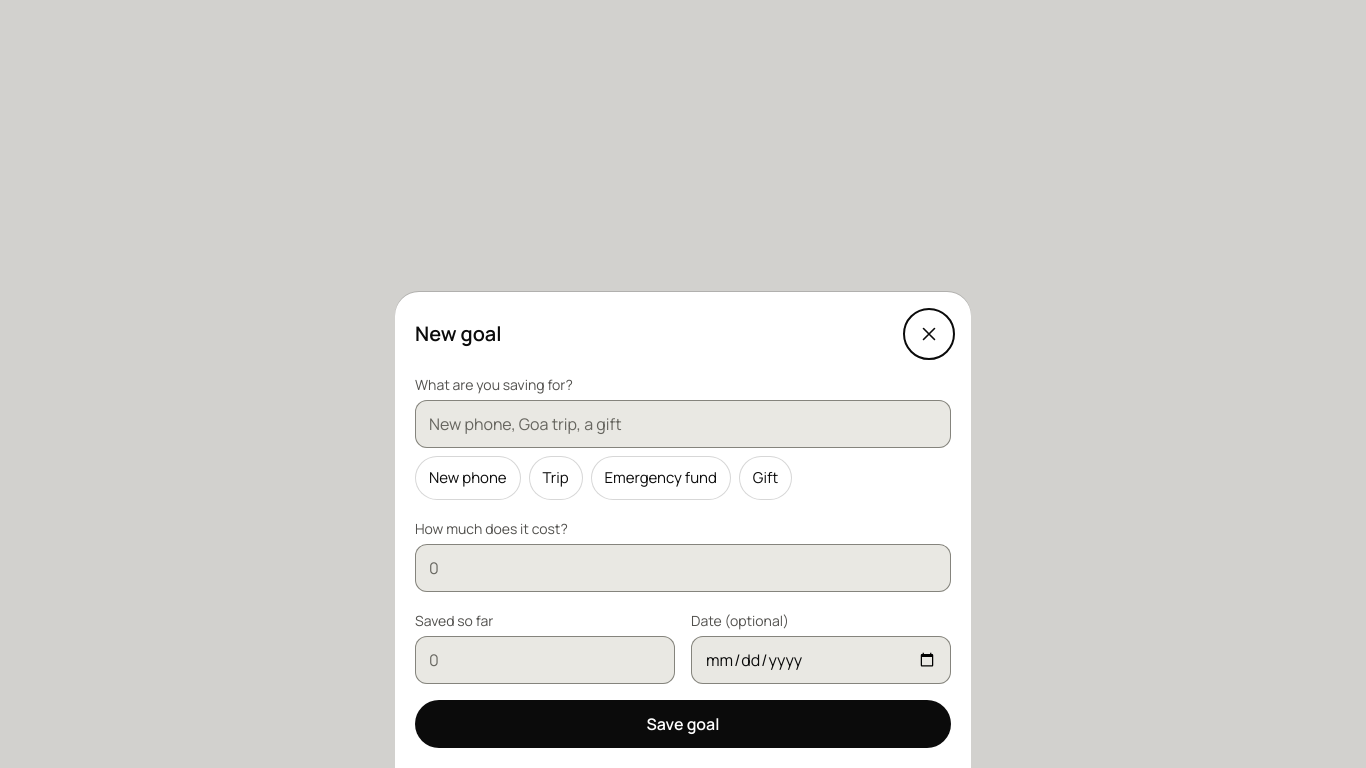
Test: GoalSheet: making a goal › clears the error once the field is corrected
This screenshot has width=1366, height=768.
Click the button "Save goal". click: x=683, y=724
box: [415,700,951,748]
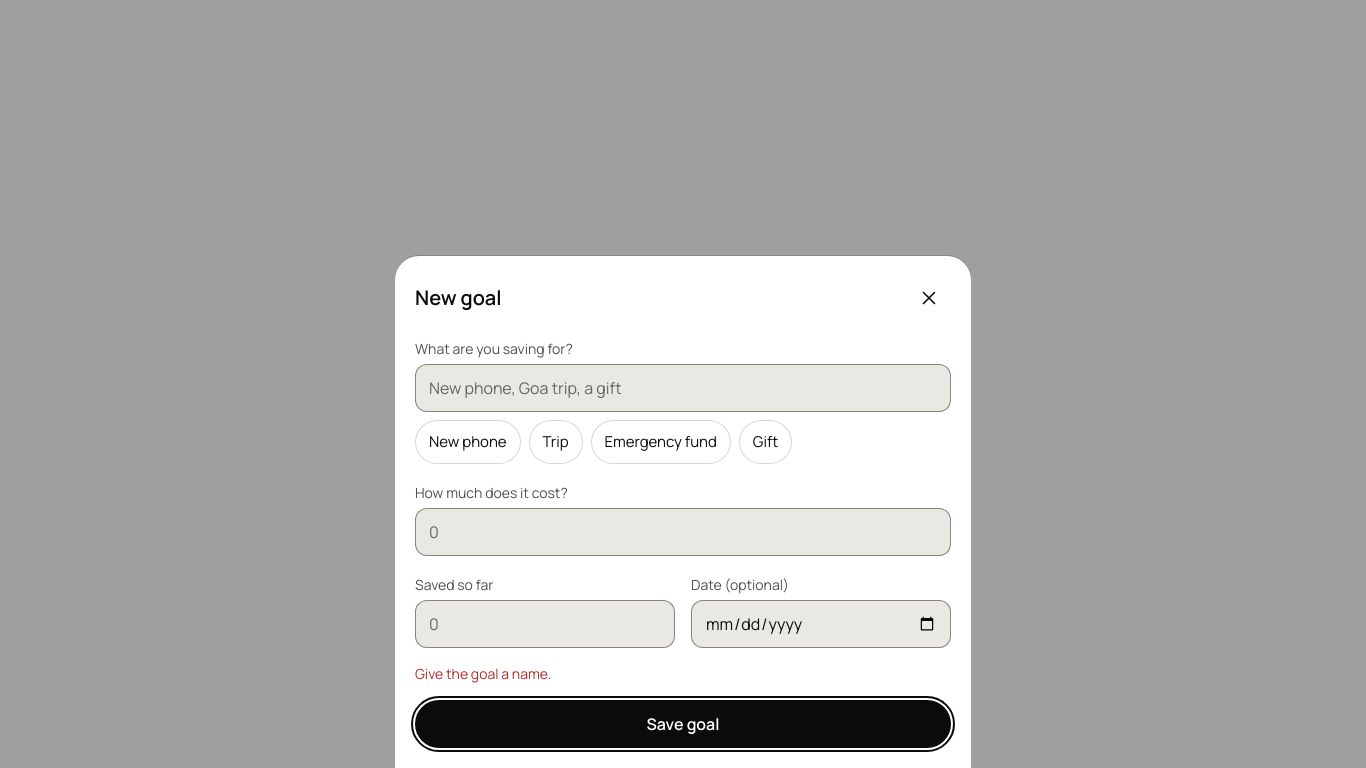
Now the message "Give the goal a name." is shown, box [415,664,551,683]
Type "T" into the field labelled "What are you saving for?". click: x=683, y=388
box: [415,364,951,412]
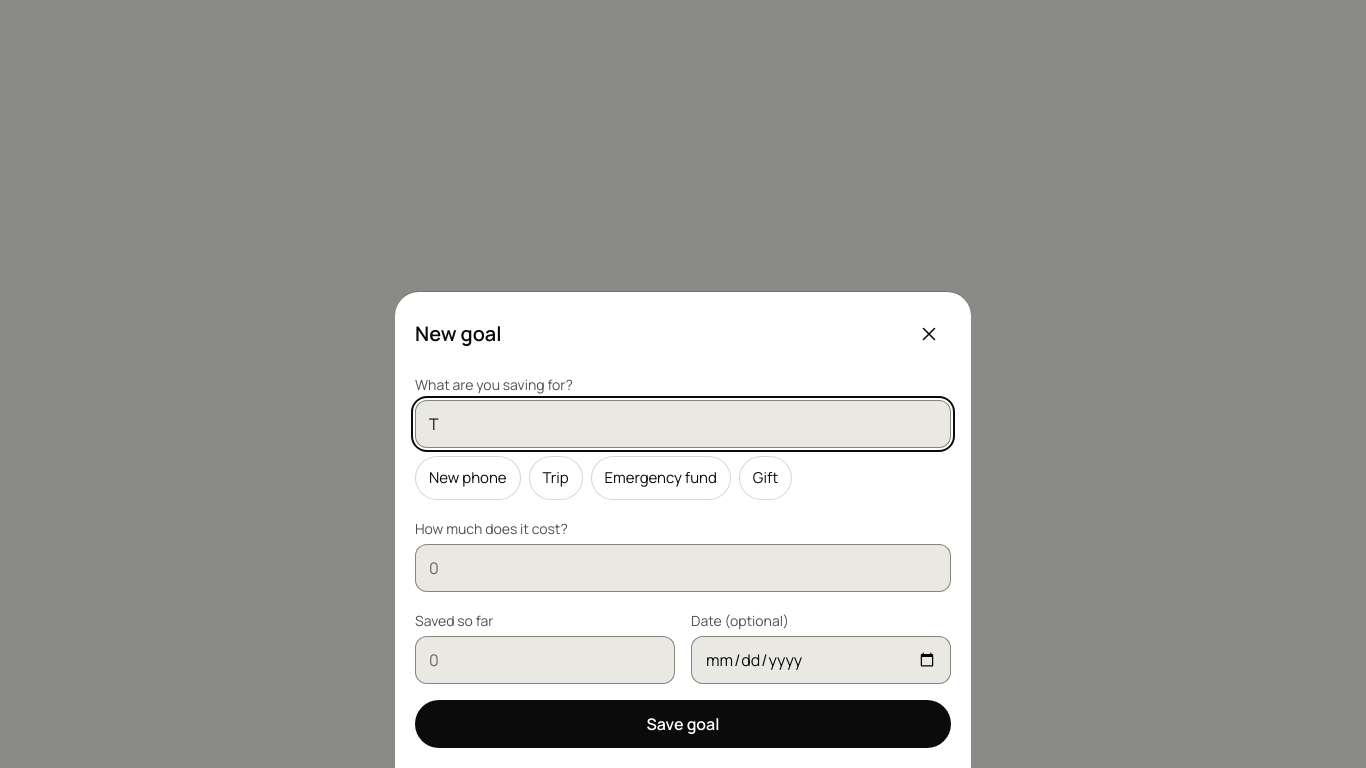
Now the message "Give the goal a name." is gone
